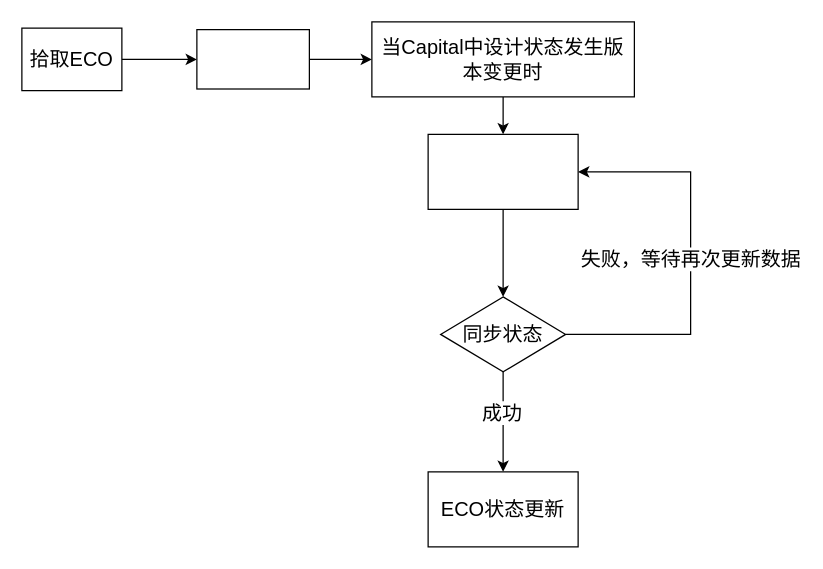
Some shapes in this 823 by 569 pixel diagram are drawn without their labels. Each missing label, with the centre of its shape:
Capital操作: [252,58]
触发数据同步钩子: [502,171]
